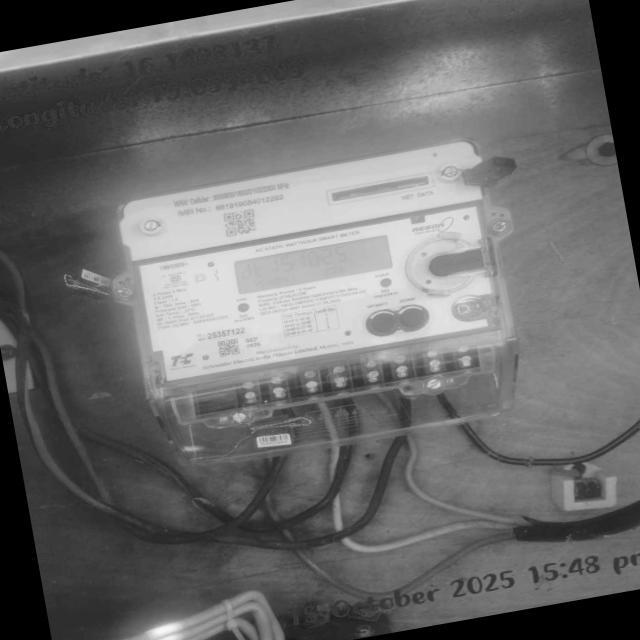meter: (113, 134, 520, 386)
